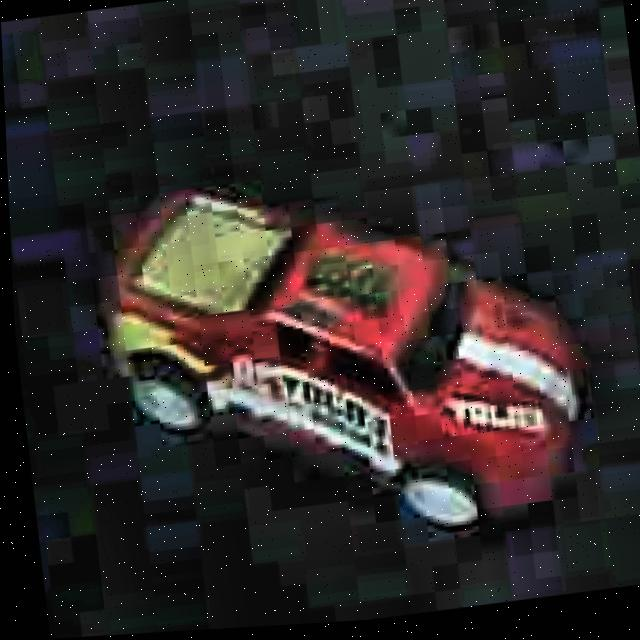car: (78, 127, 612, 592)
